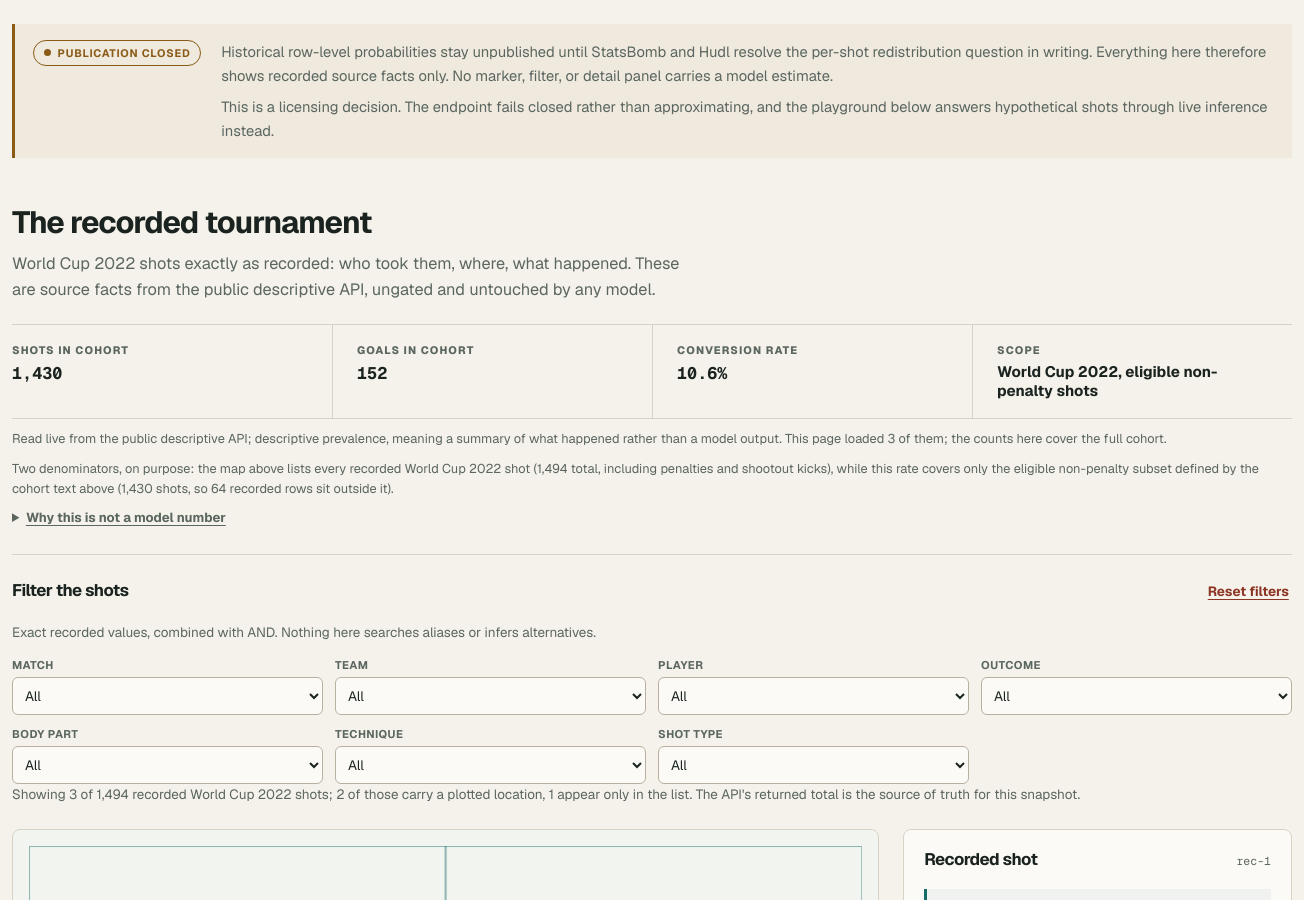
Test: ExploreRoute while publication is closed › surfaces the descriptive summary with both denominators reconciled and its caveat collapsed
Expected: the text "Shots in cohort" is shown, [12,343,129,357]
Expected: the text "1,430" is shown, [12,362,62,384]
Click the heading "Why this is not a model number" at (119, 518), box [12,509,226,526]
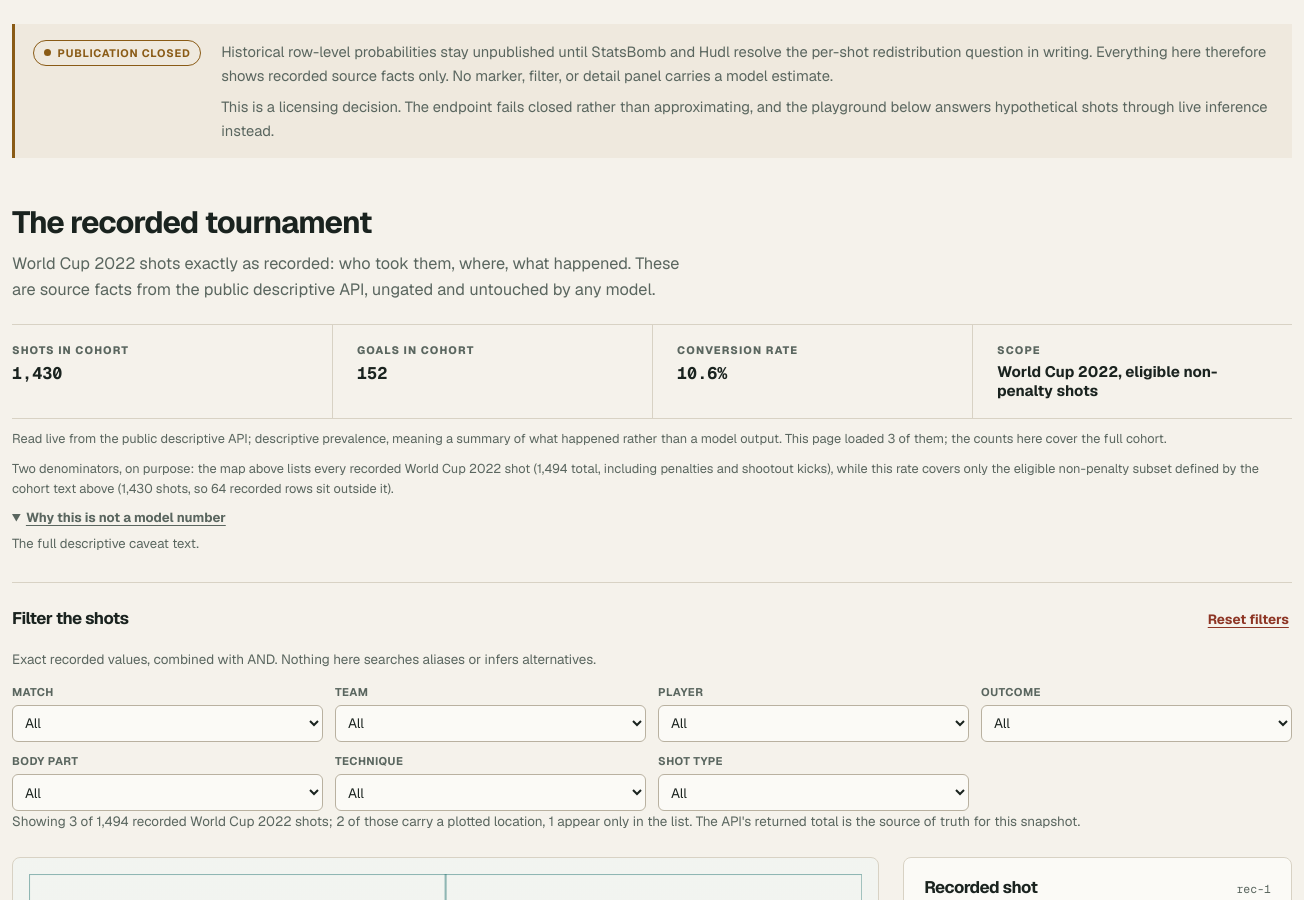
Expected: the text "The full descriptive caveat text." is shown, [12,535,199,552]
